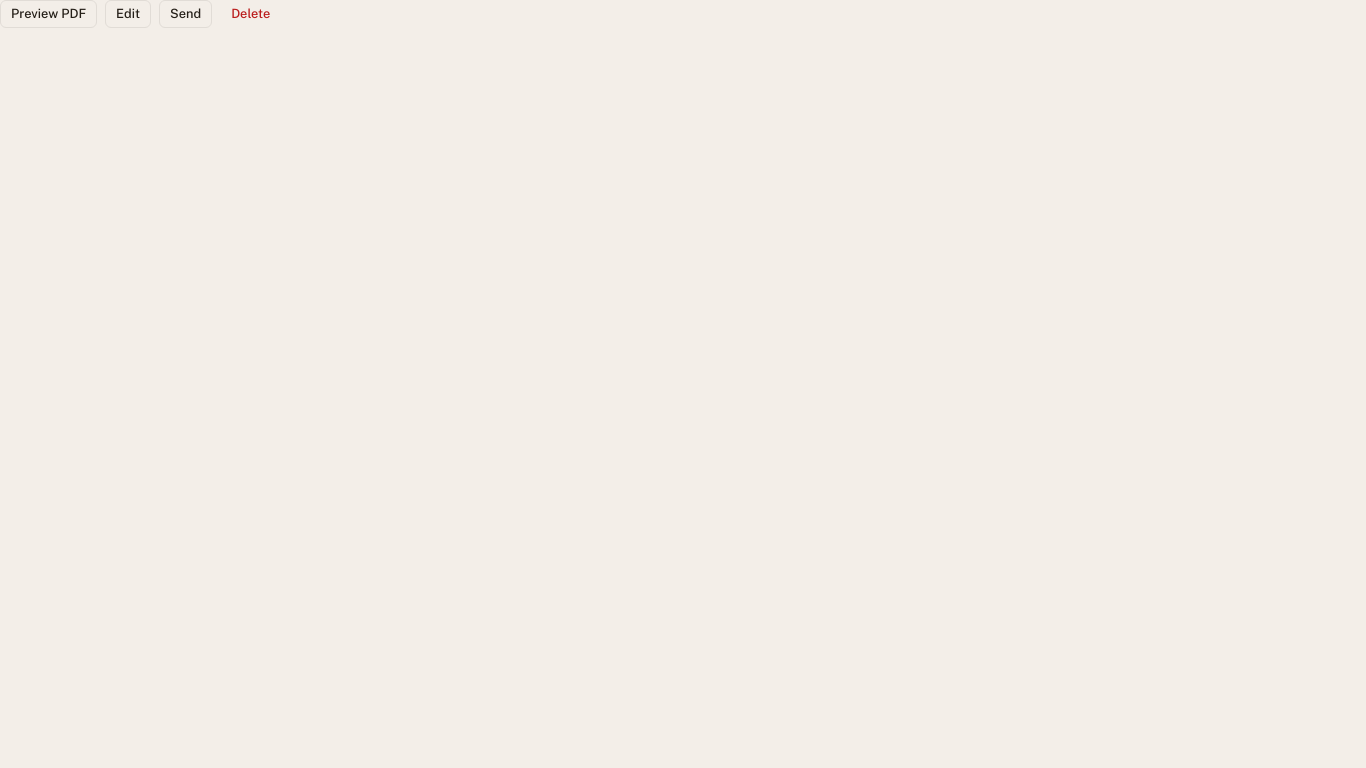
Test: does not send on the first click; confirm names receipt, donor, email and the freeze
Later steps or results of the test are not shown.
Click the button "Send" at (186, 14), box [159, 0, 212, 28]
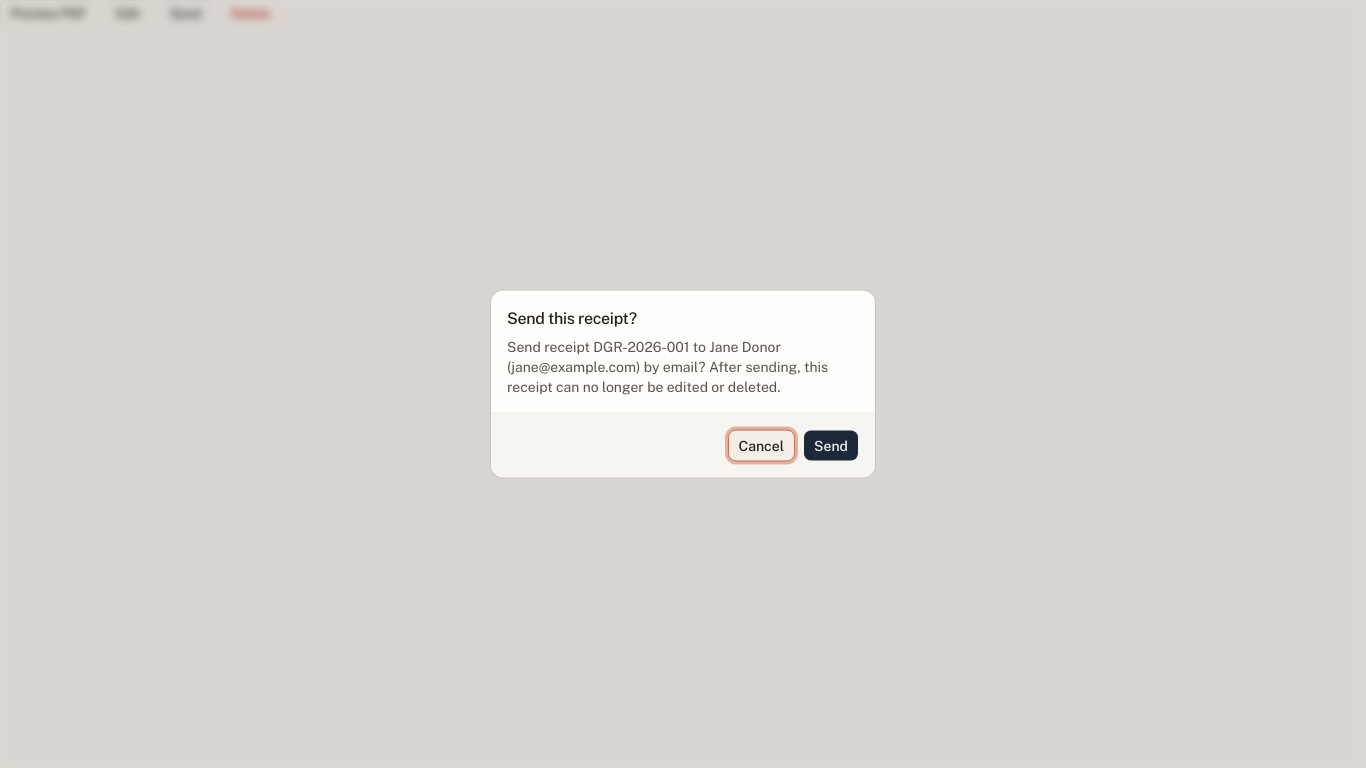
Expected: the dialog shows "DGR-2026-001", [507, 338, 828, 394]
Expected: the dialog shows "Jane Donor", [507, 338, 828, 394]
Expected: the dialog shows "jane@example.com", [507, 338, 828, 394]
